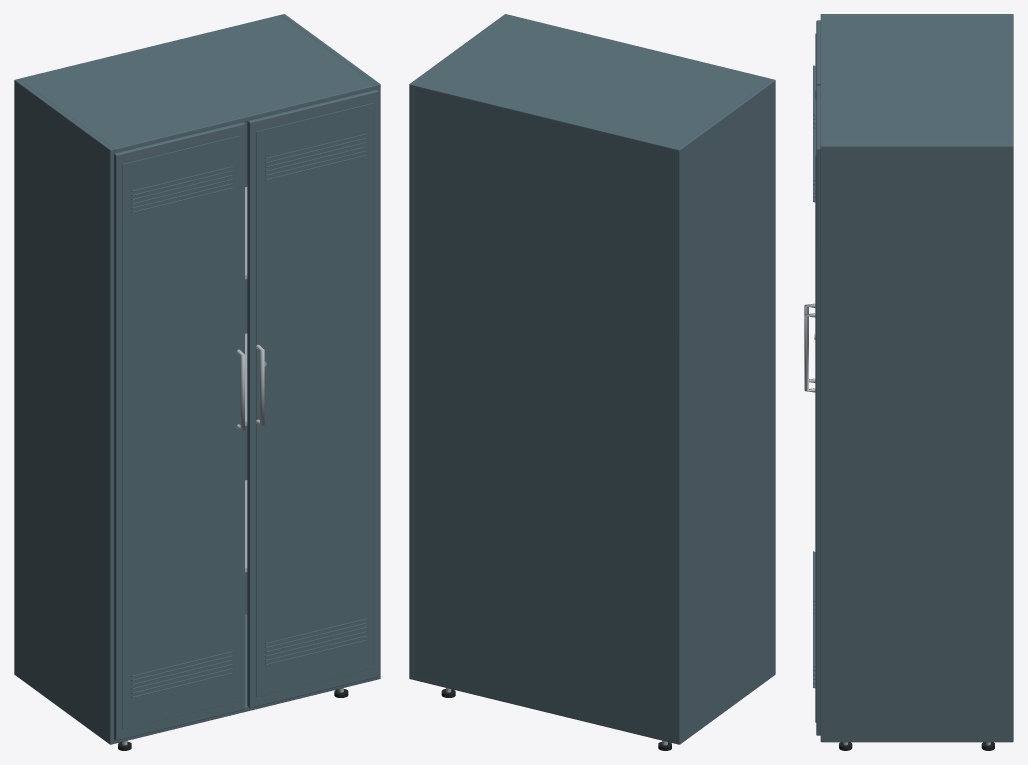
File: garage-tall-cabinet.glb
3 views of the same model, side by side, from view 1: azimuth 30°, elevation 25°; view 2: azimuth 150°, elevation 25°; view 3: azimuth 270°, elevation 25° (orthographic).
Parts seen in each view (by area): view 1: garage-tall-cabinet authored assembly; view 2: garage-tall-cabinet authored assembly; view 3: garage-tall-cabinet authored assembly.
Boxes of the visible parts, x1,y1,x2,y2 form: garage-tall-cabinet authored assembly: (14, 14, 380, 750); garage-tall-cabinet authored assembly: (409, 14, 775, 750); garage-tall-cabinet authored assembly: (804, 14, 1013, 750).
Bounding box in the file's own units: 0.914 × 1.98 × 0.61.
